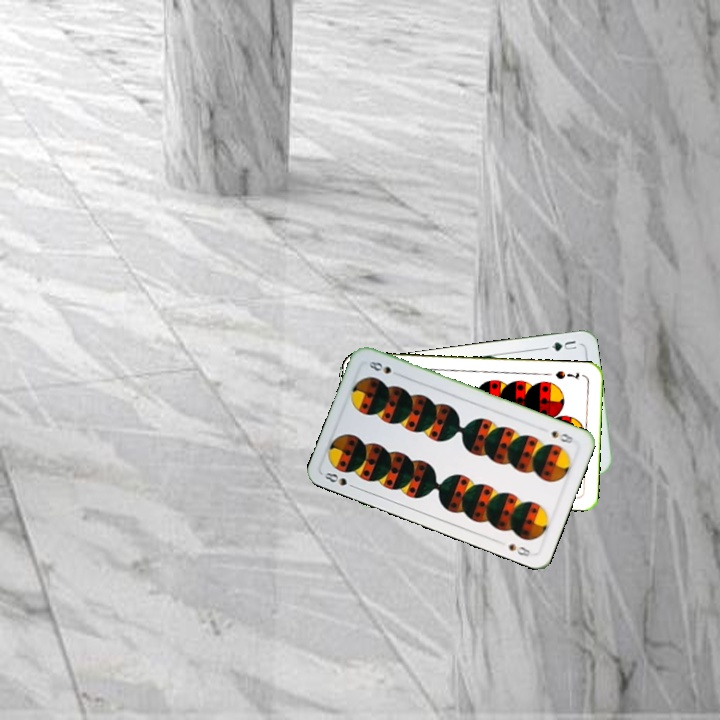GU: (547, 336, 579, 354)
S7: (551, 367, 582, 383)
S8: (319, 468, 359, 491), (547, 426, 576, 446)
